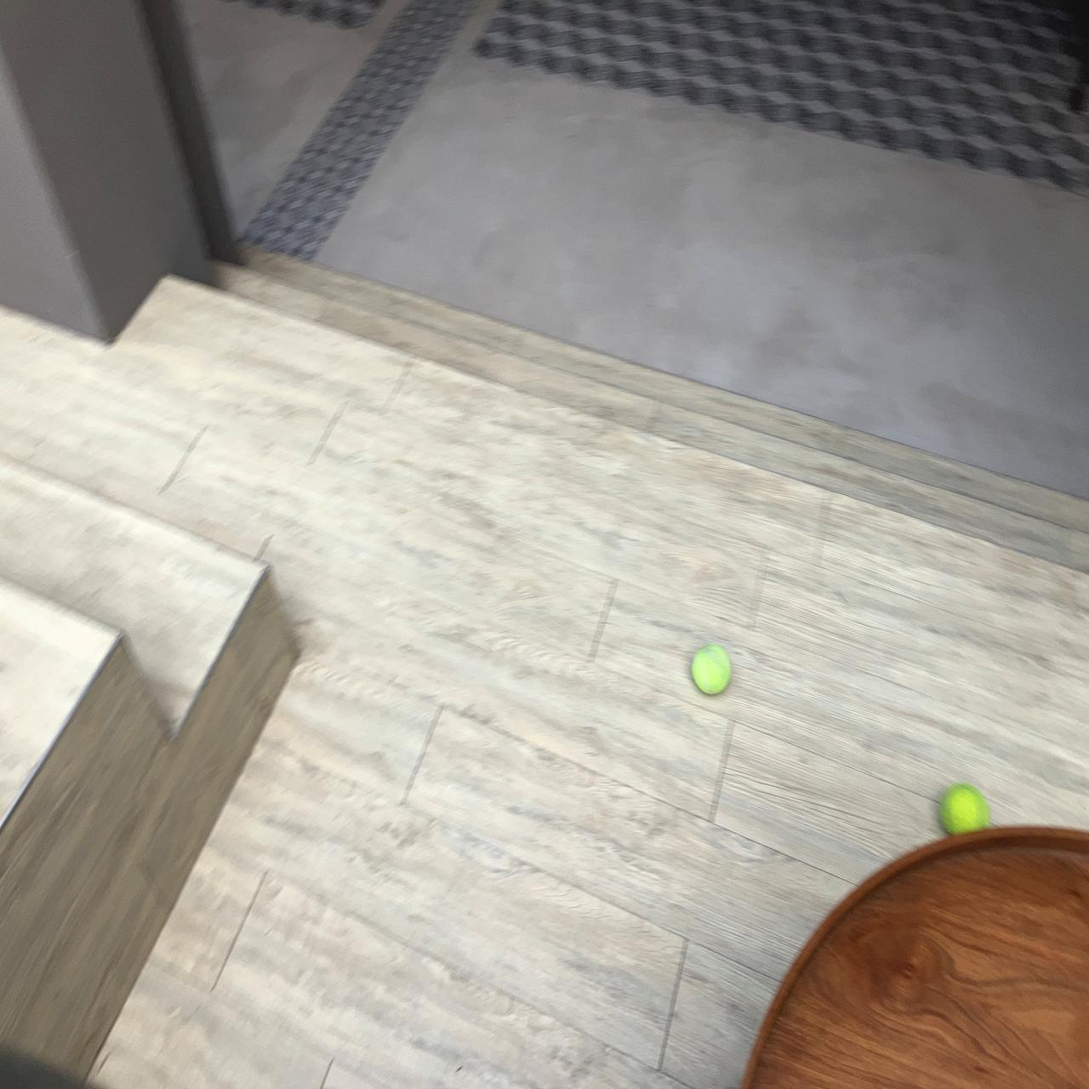tennisball: (296, 921, 334, 975)
